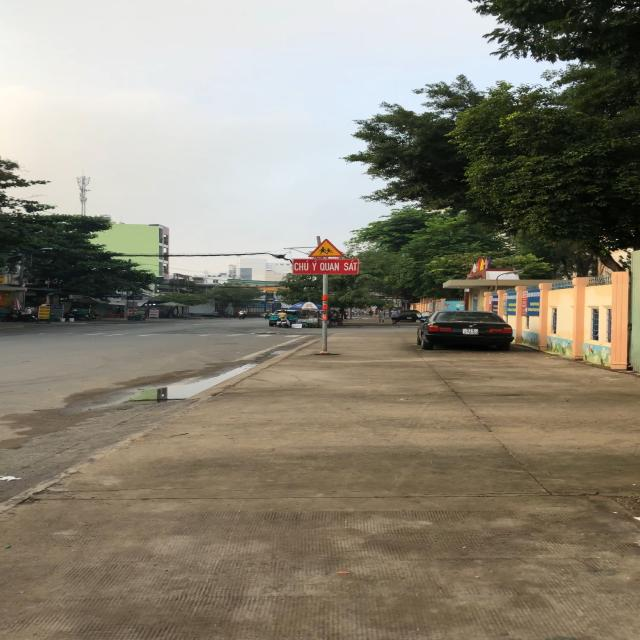Bien bao tre em: (306, 239, 347, 258)
